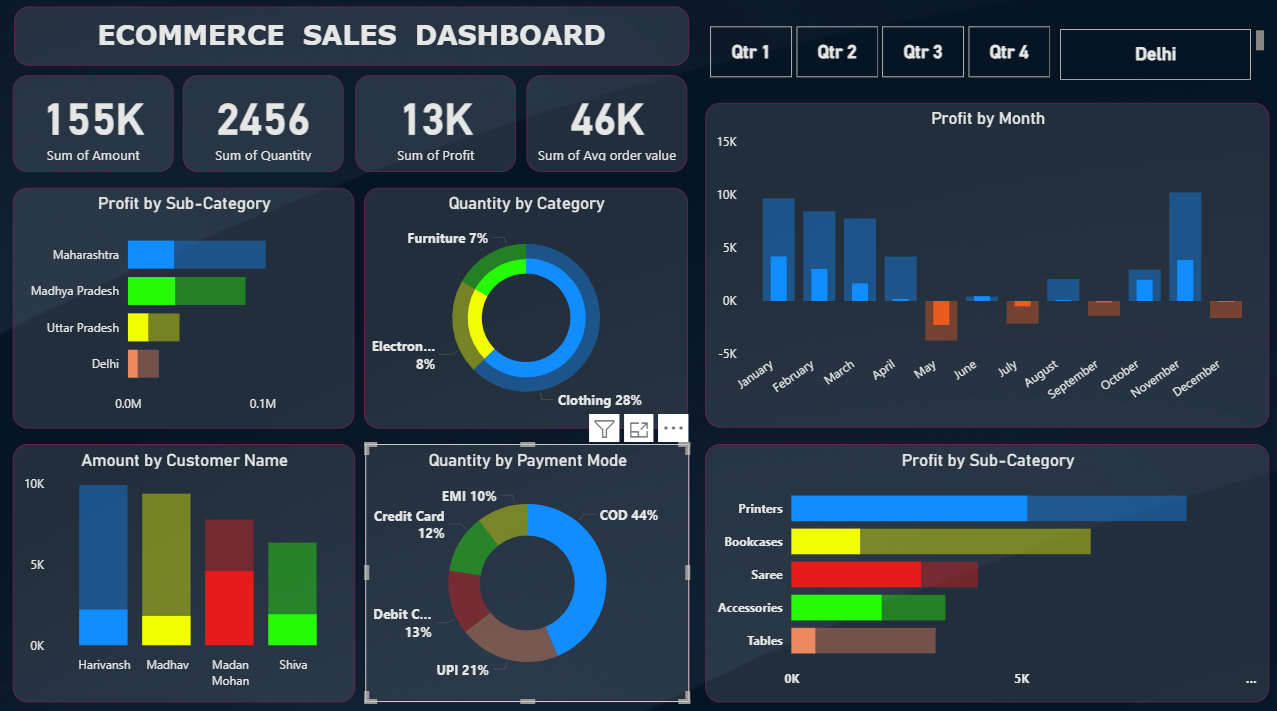

The dashboard page shown, as its layout file describes it:
{"tool":"powerbi","page":{"name":"Page 1","canvas":[1280,720],"ordinal":0},"visuals":[{"type":"columnChart","title":"Profit by Month","fields":{"Category":["Orders.Order Date.Variation.Date Hierarchy.Month"],"Y":["Details.Profit"]},"box":[706,103.8,564.3,325],"z":0},{"type":"barChart","title":"Profit by Sub-Category","fields":{"Category":["Details.Sub-Category"],"Y":["Details.Profit"]},"box":[706.2,445.2,564.3,258.3],"z":1000},{"type":"donutChart","title":"Quantity by Category","fields":{"Category":["Details.Category"],"Y":["Details.Quantity"]},"box":[365.5,188.3,323.8,240.5],"z":2000},{"type":"donutChart","title":"Quantity by Payment Mode","fields":{"Y":["Details.Quantity"],"Category":["Details.PaymentMode"]},"box":[365.8,445.2,323.8,258.3],"z":3000},{"type":"card","fields":{"Values":["Details.Amount"]},"box":[14.3,76.4,160.7,96.4],"z":4000},{"type":"card","fields":{"Values":["Details.Profit"]},"box":[356,76.4,160.7,96.4],"z":5000},{"type":"card","fields":{"Values":["Details.Quantity"]},"box":[183.3,76.4,160.7,96.4],"z":6000},{"type":"card","fields":{"Values":["Details.Avg order value"]},"box":[527.4,76.4,160.7,96.4],"z":7000},{"type":"barChart","title":"Profit by Sub-Category","fields":{"Category":["Orders.State"],"Y":["Details.Amount"]},"box":[14.3,188.3,341.7,240.5],"z":8000},{"type":"columnChart","title":"Amount by Customer Name","fields":{"Category":["Orders.CustomerName"],"Y":["Details.Amount"]},"box":[14.3,445.1,342,258],"z":9000},{"type":"textbox","box":[15.5,7.1,675,59.5],"z":10000},{"type":"advancedSlicerVisual","fields":{"Values":["Orders.Order Date.Variation.Date Hierarchy.Quarter"],"Label":["Orders.City"]},"box":[706,22.8,350,61.4],"z":11000},{"type":"advancedSlicerVisual","fields":{"Values":["Orders.State"]},"box":[1056.9,23.1,214.6,61.2],"z":12000}]}

Visuals, with their boxes in screenshot pixels (x1, y1, x2, y2), scaled from the page's 1280x720 canvas onto the 1277x711 screenshot:
"Profit by Month" columnChart: 704:103:1267:423
"Profit by Sub-Category" barChart: 705:440:1268:695
"Quantity by Category" donutChart: 365:186:688:423
"Quantity by Payment Mode" donutChart: 365:440:688:695
card - Details.Amount: 14:75:175:171
card - Details.Profit: 355:75:515:171
card - Details.Quantity: 183:75:343:171
card - Details.Avg order value: 526:75:686:171
"Profit by Sub-Category" barChart: 14:186:355:423
"Amount by Customer Name" columnChart: 14:440:355:694
textbox: 15:7:689:66
advancedSlicerVisual - Orders.Order Date.Variation.Date Hierarchy.Quarter x Orders.City: 704:23:1054:83
advancedSlicerVisual - Orders.State: 1054:23:1269:83
